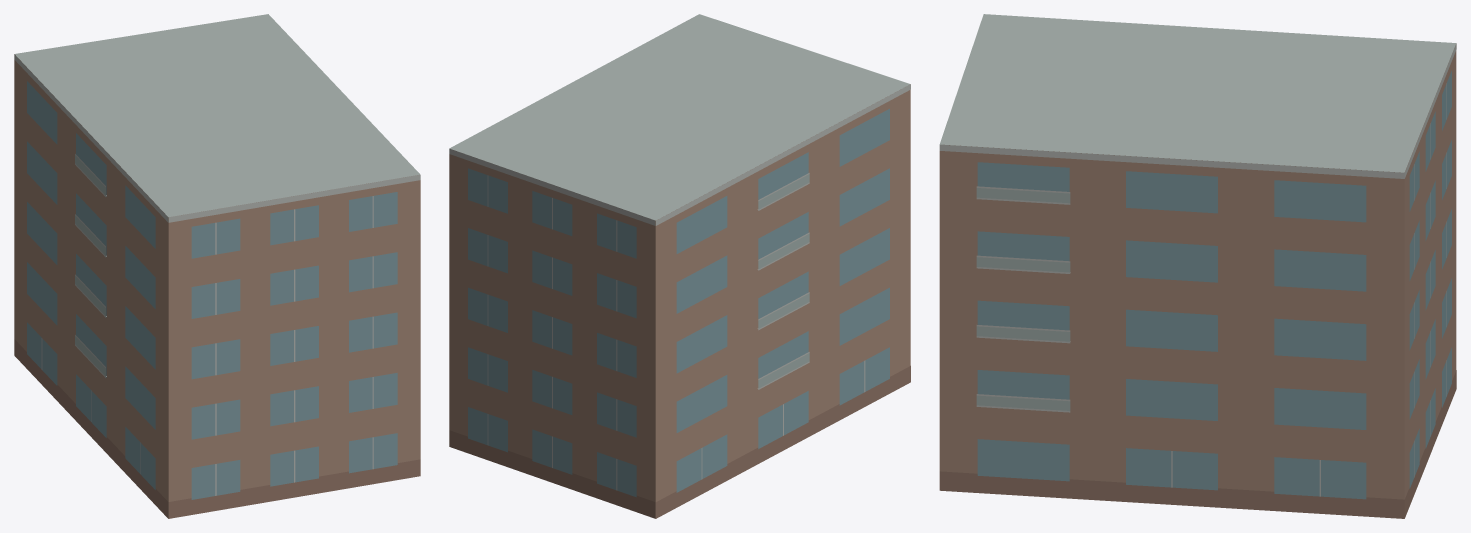
File: survey-upis-32755769.glb
The picture shows the model from 3 angles, left to right: view 1: azimuth 30°, elevation 25°; view 2: azimuth 150°, elevation 25°; view 3: azimuth 270°, elevation 25°; orthographic projection. The views are drawn at different scales.
Visible parts, largest first — view 1: survey-upis-32755769.tmp; view 2: survey-upis-32755769.tmp; view 3: survey-upis-32755769.tmp.
Boxes of the visible parts, x1,y1,x2,y2 form: survey-upis-32755769.tmp: (14, 14, 420, 518); survey-upis-32755769.tmp: (449, 14, 910, 518); survey-upis-32755769.tmp: (939, 14, 1456, 518).
Bounding box in the file's own units: 13.08 × 13.3 × 18.01.
